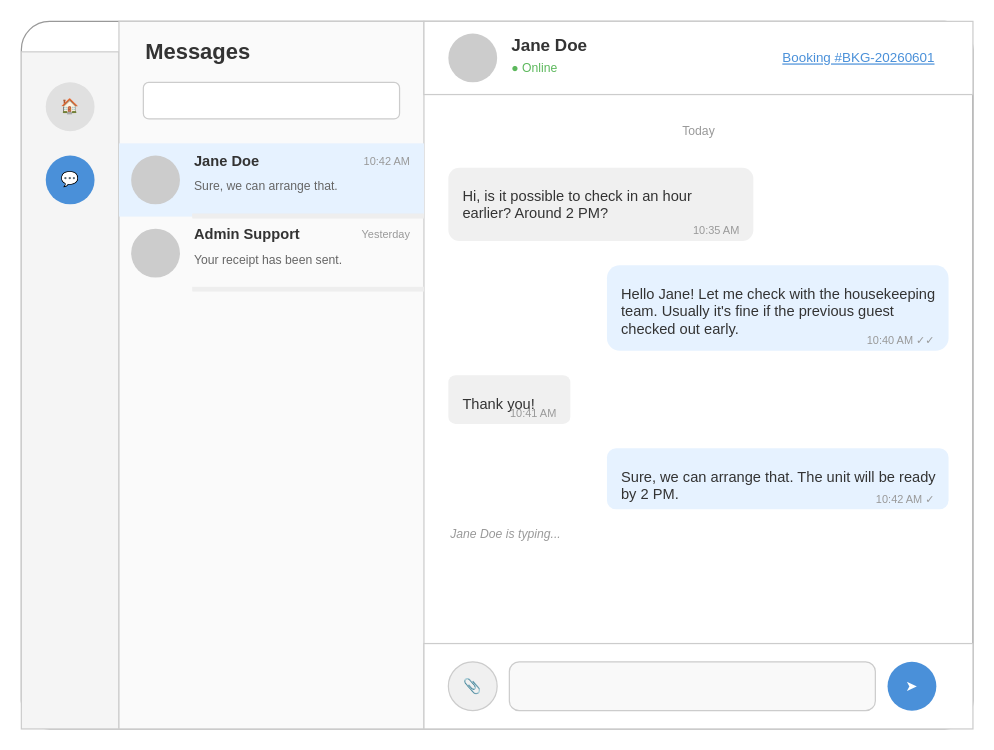
Some shapes in this 994 by 750 pixel diagram are drawn without their labels. The shapes that lost their labels are listed below. From the top down, each one's centre as x and y in pixels, then its label:
[271,100]: 🔍 Search chats...
[691,686]: Type a message...
